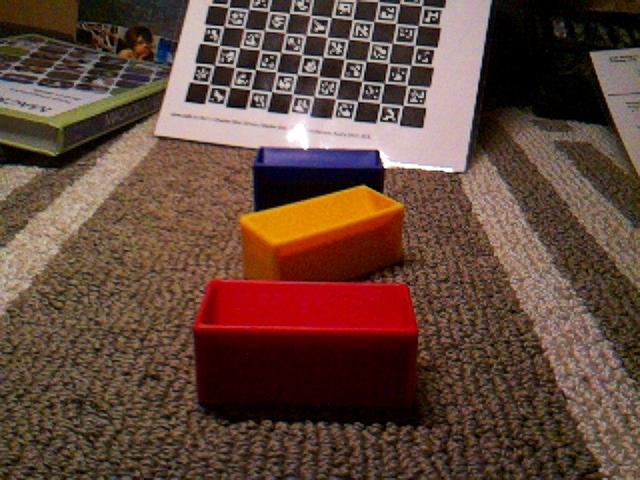blue: (250, 145, 386, 212)
red: (192, 277, 420, 414)
yellow: (238, 183, 406, 282)
